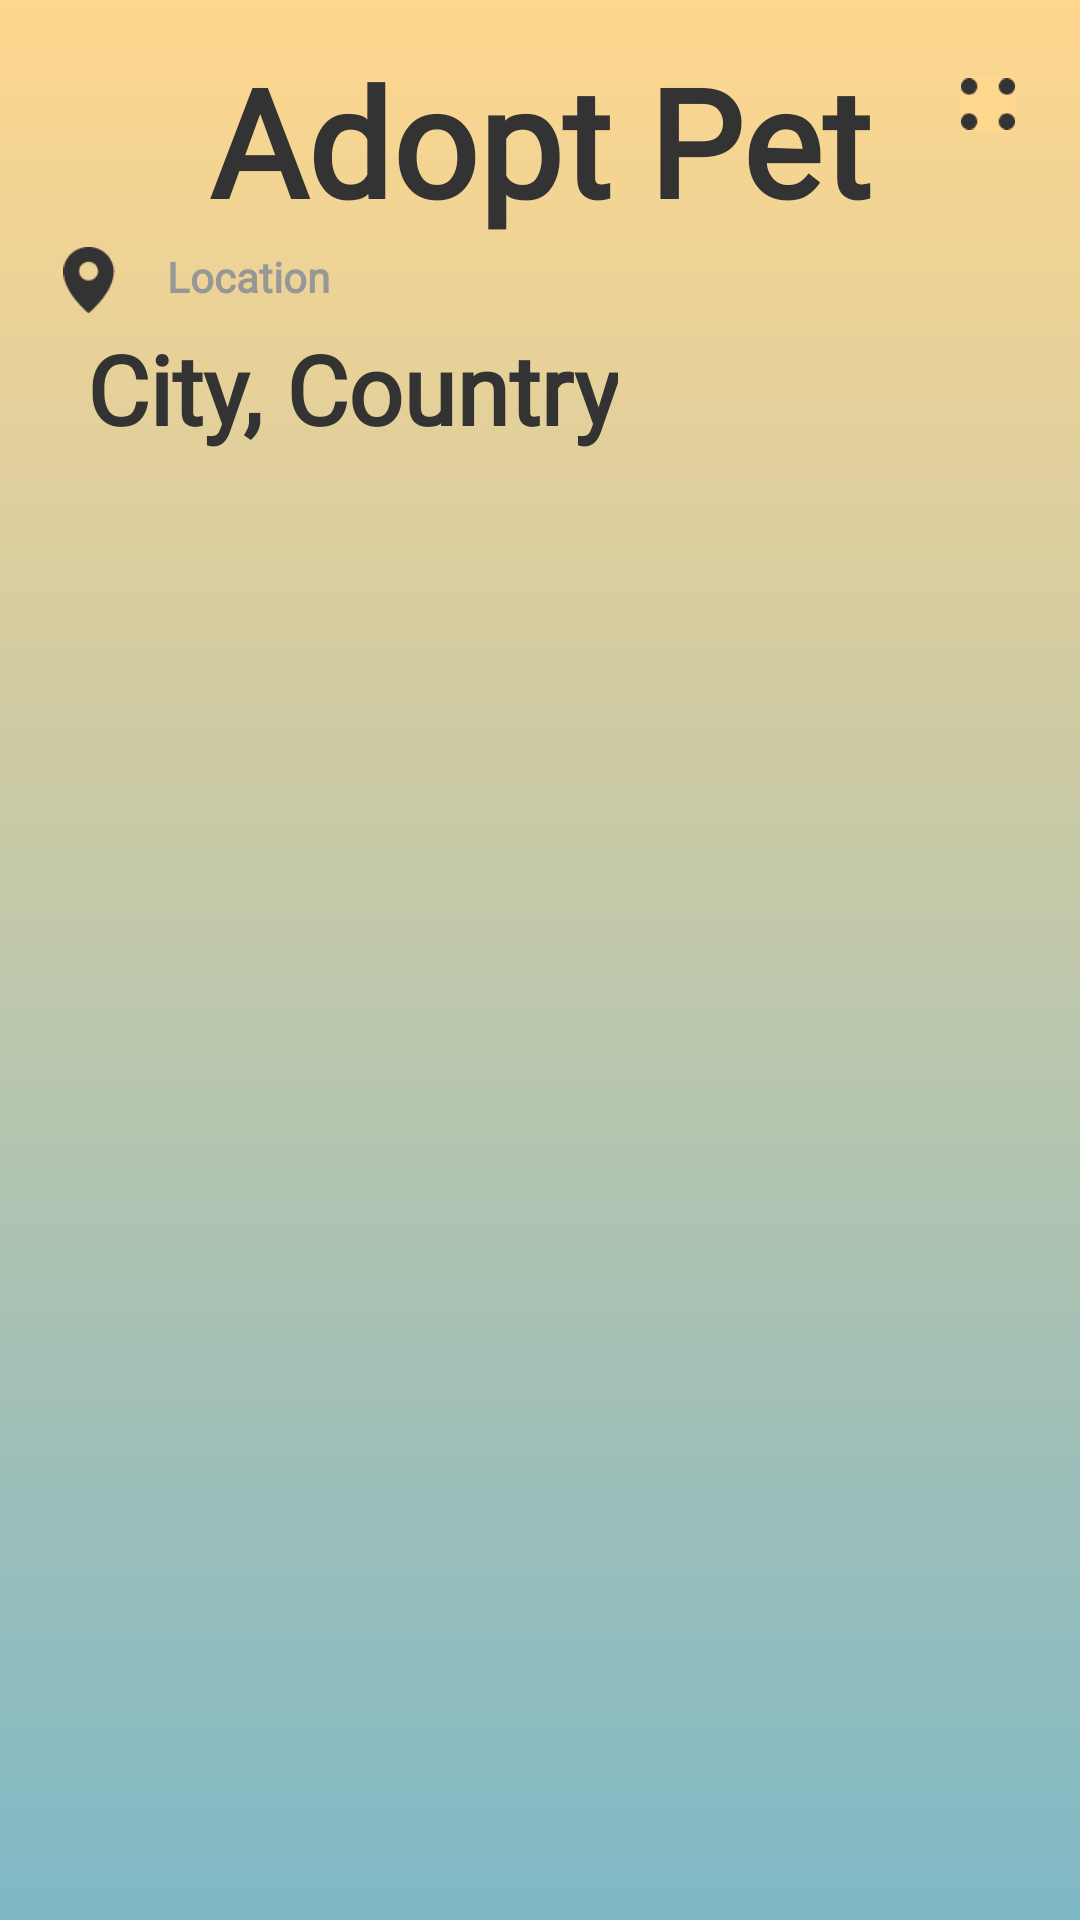

Where icons sit on this 1080×1920 app screen, as detection(x1, y1, x2, y2):
menu: detection(961, 78, 1015, 130)
